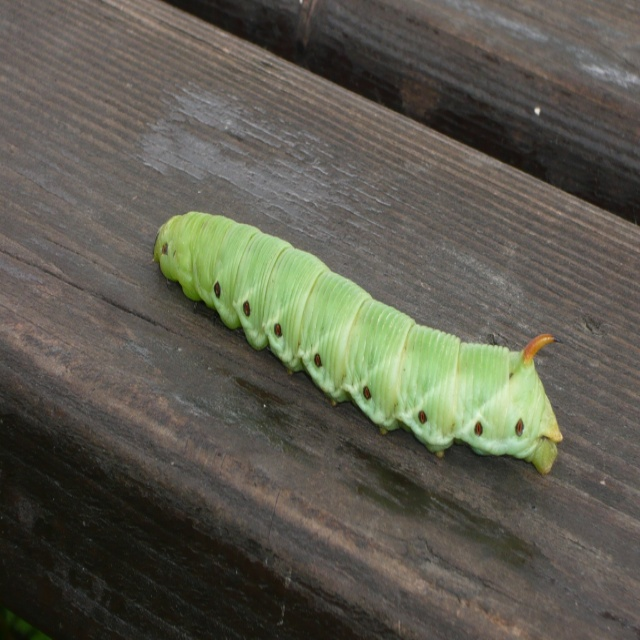Caterpillar: (147, 204, 563, 476)
